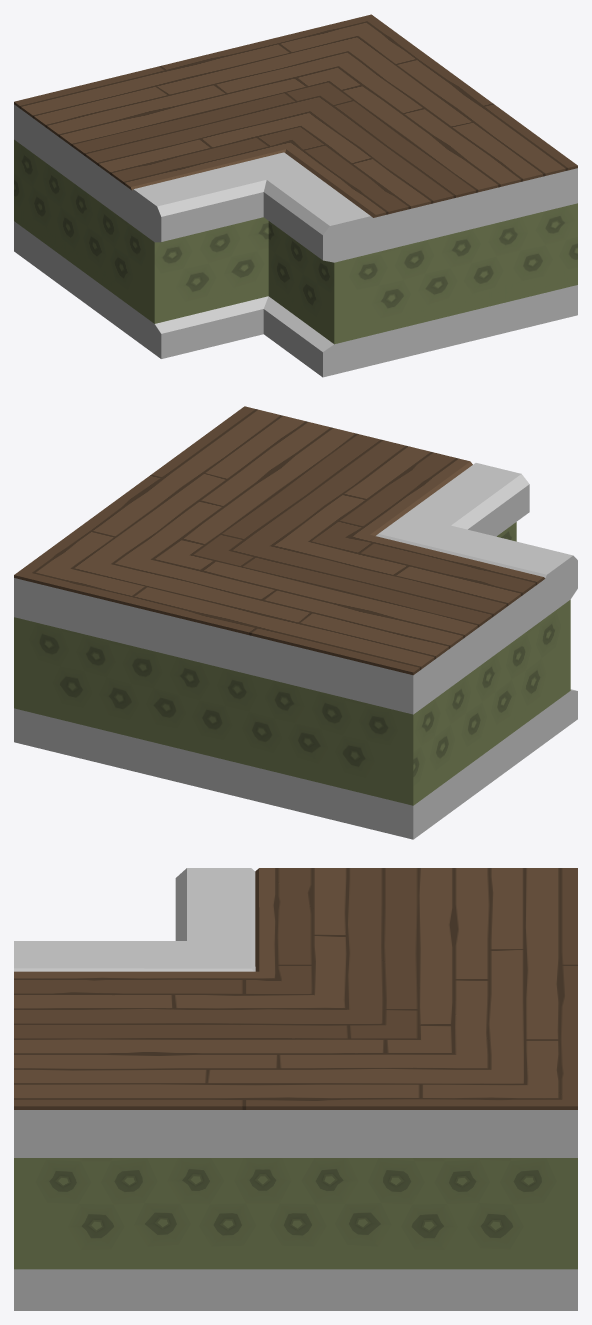
File: SM_Prop_Platform_01_Corner_R_01.fbx
3 renders of one model, top to bottom at view 1: azimuth 30°, elevation 25°; view 2: azimuth 150°, elevation 25°; view 3: azimuth 270°, elevation 25°, orthographic. The views are drawn at different scales.
Parts seen in each view (by area): view 1: SM_Prop_Platform_01_Corner_R_01; view 2: SM_Prop_Platform_01_Corner_R_01; view 3: SM_Prop_Platform_01_Corner_R_01.
Boxes of the visible parts, <box> form: SM_Prop_Platform_01_Corner_R_01: <box>14,14,577,377</box>; SM_Prop_Platform_01_Corner_R_01: <box>14,406,577,839</box>; SM_Prop_Platform_01_Corner_R_01: <box>14,868,577,1310</box>.
Bounding box in the file's own units: 250 × 100 × 250.
